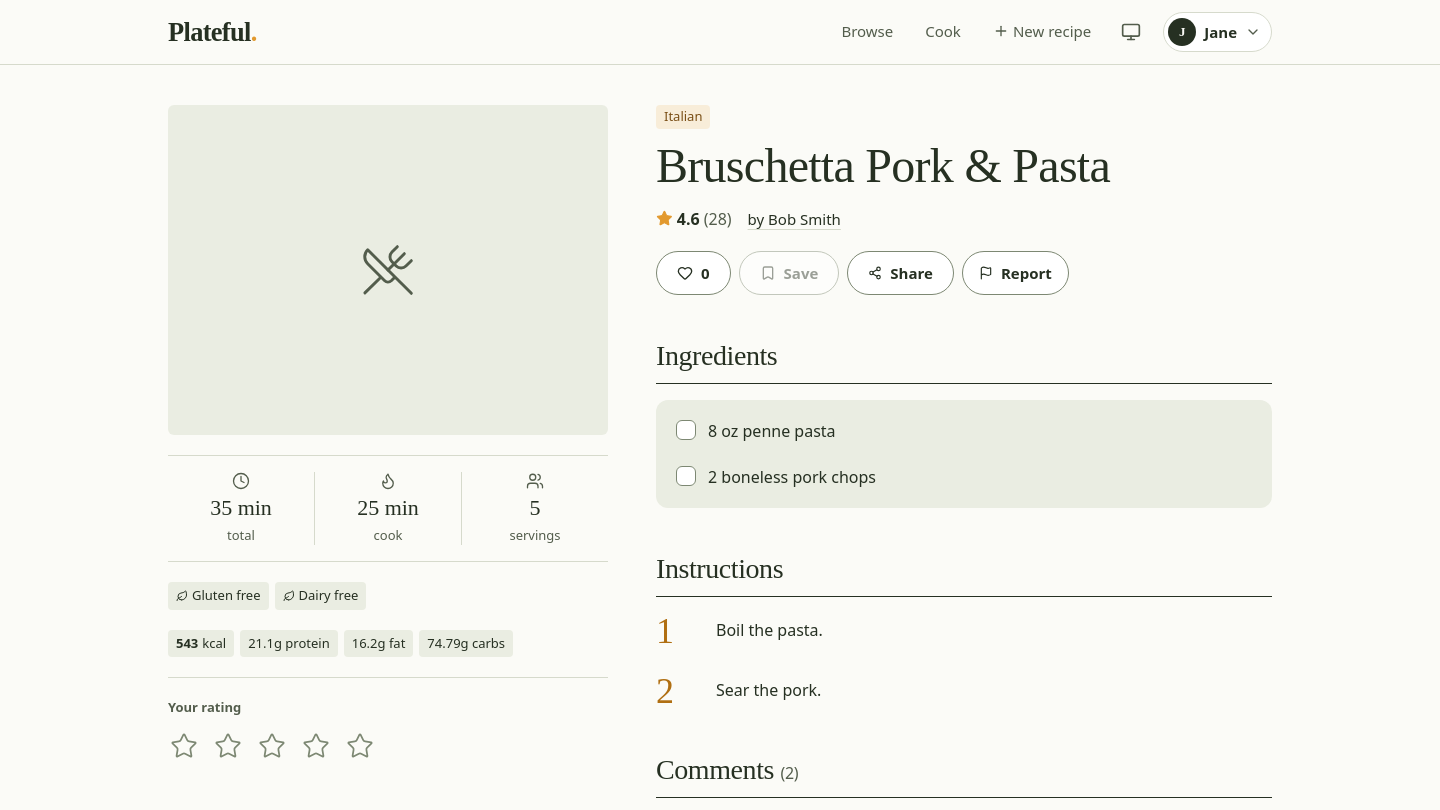
Test: a 404 says the item is no longer available
Step 1. Click the button "Report" → click(1015, 273), box [962,251,1069,295]
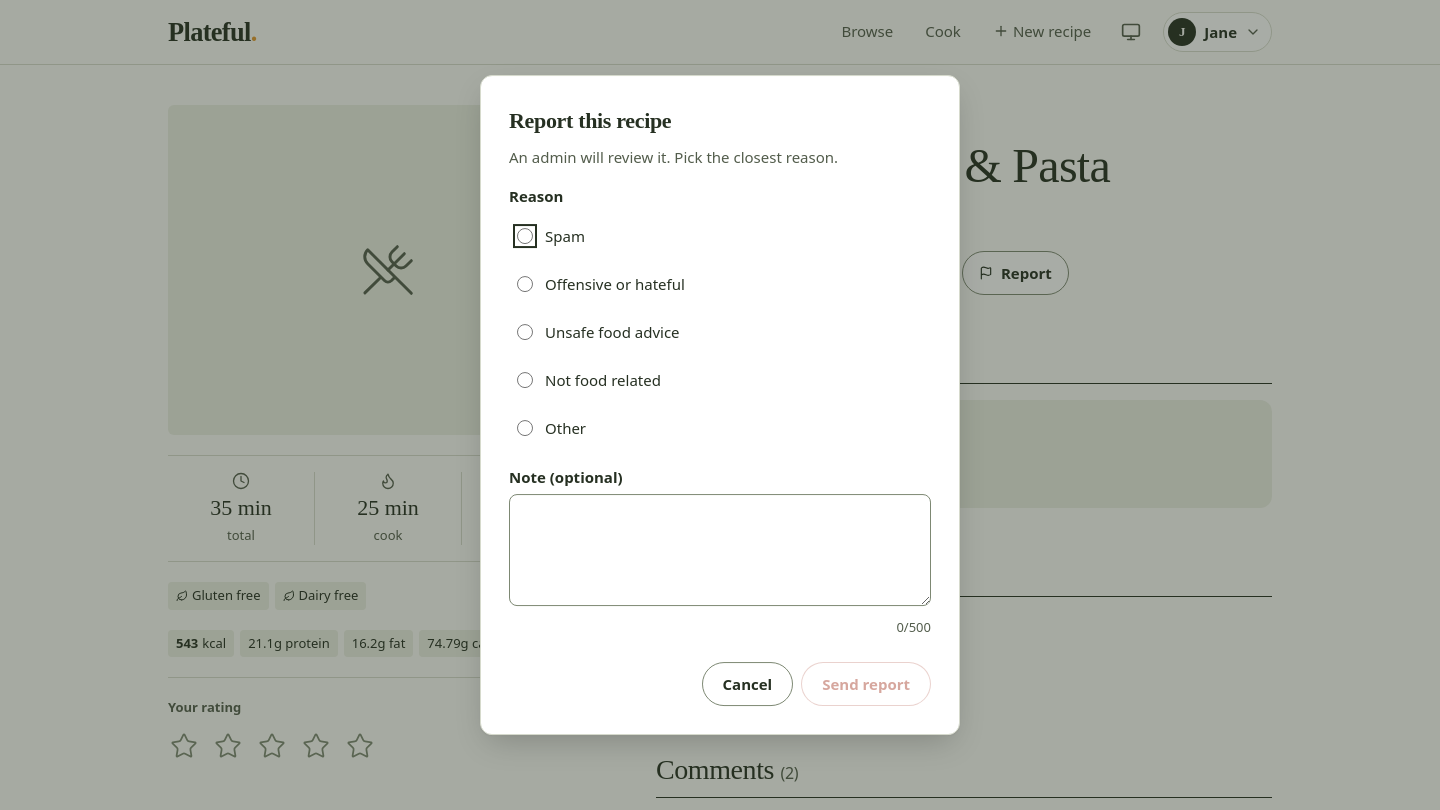
Step 2. Click the radio button labelled "Spam" → click(525, 236), box [517,228,533,244]
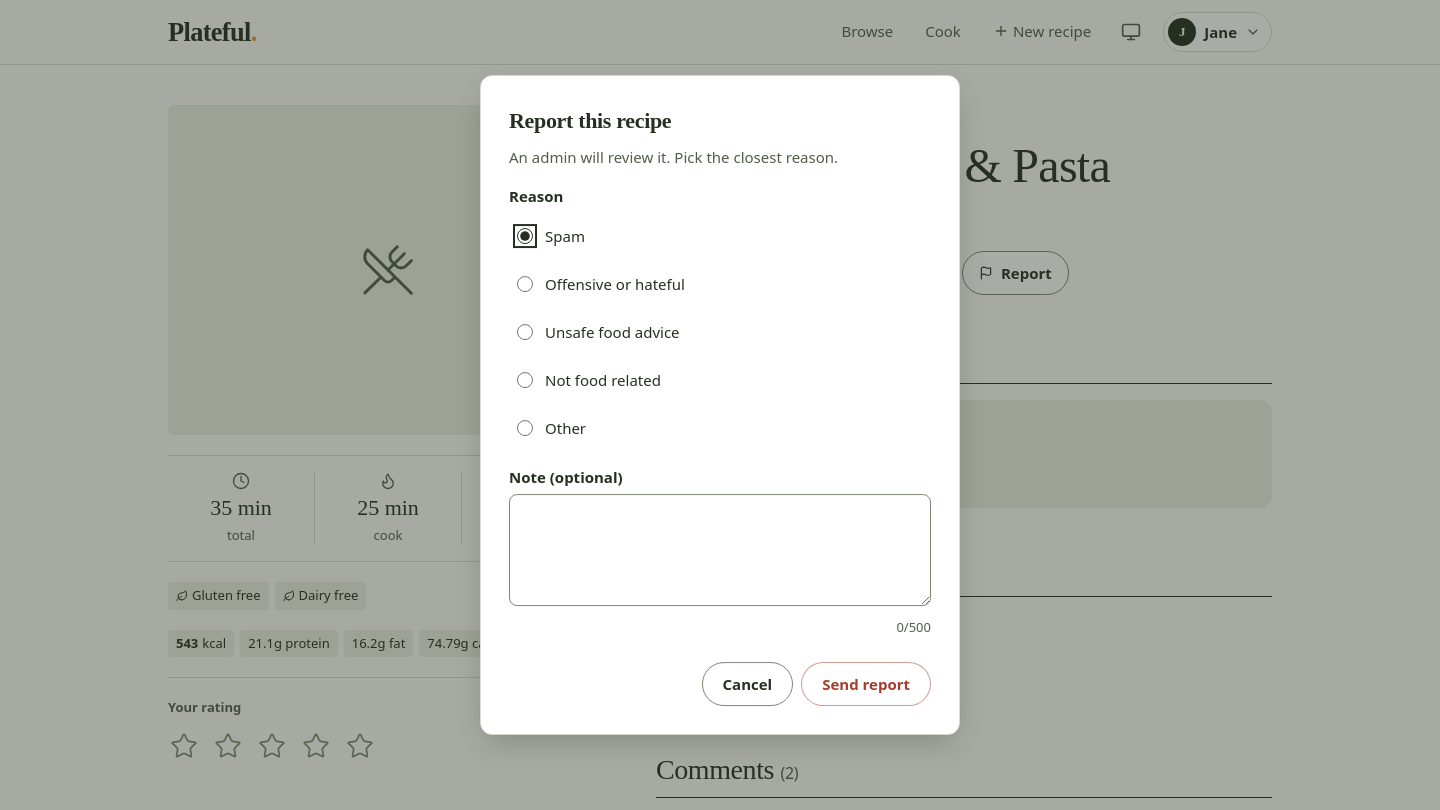
Step 3. Click the button "Send report" → click(866, 684), box [801,662,931,706]
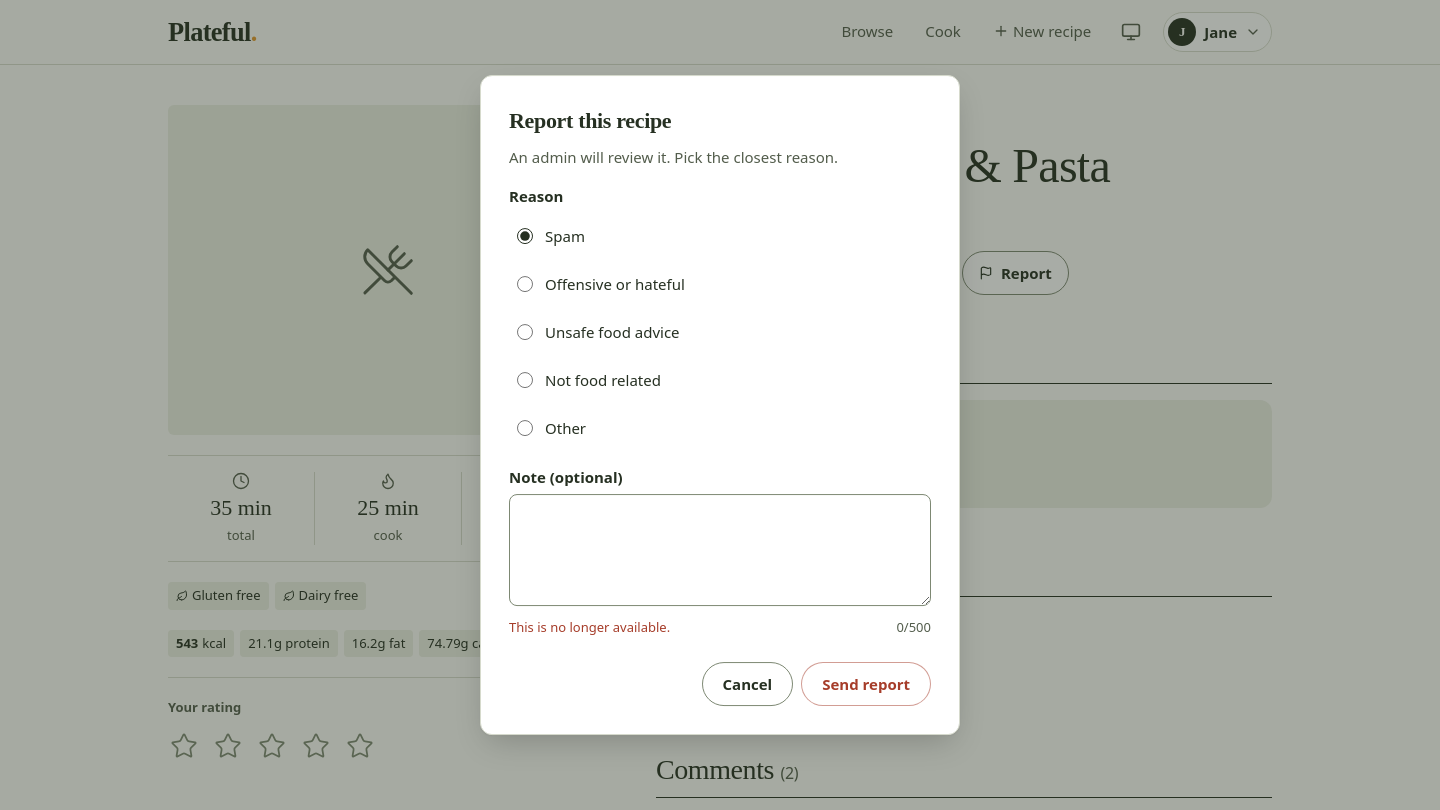
Check: the text "This is no longer available." is shown, box [509,618,670,638]
